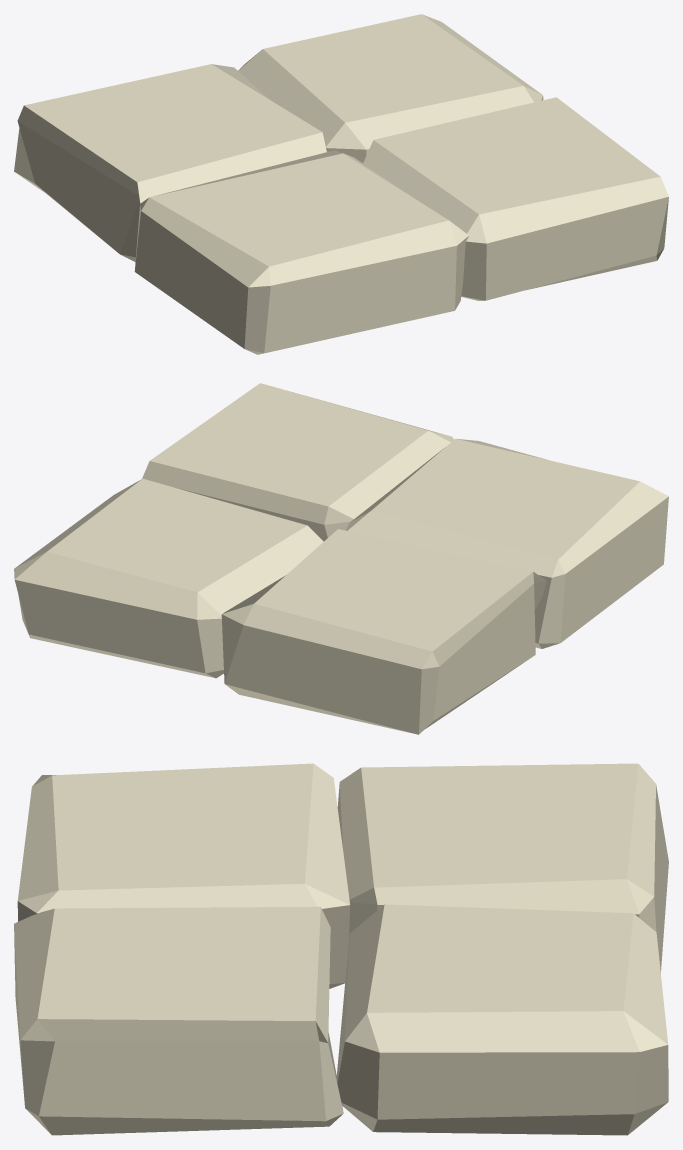
Rendered from slab_light.glb.
3 views of the same model, one above another, from view 1: azimuth 30°, elevation 25°; view 2: azimuth 150°, elevation 25°; view 3: azimuth 270°, elevation 25° (orthographic). The views are drawn at different scales.
Visible parts, largest first — view 1: slab_light; view 2: slab_light; view 3: slab_light.
Boxes of the visible parts, x1=… form: slab_light: x1=14, y1=14, x2=668, y2=354; slab_light: x1=14, y1=383, x2=668, y2=734; slab_light: x1=14, y1=763, x2=668, y2=1135.
Bounding box in the file's own units: 1.01 × 0.2 × 1.03.
